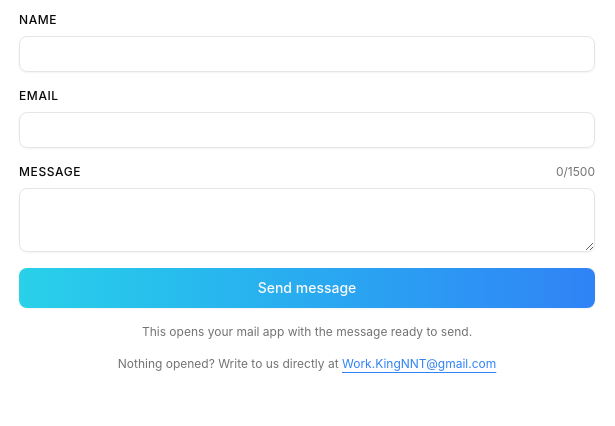
Scenario: ContactForm › confirms the mail app was opened without claiming the message was sent
Type "Ann" into the field labelled "Name" at (307, 54), box [19,36,595,72]
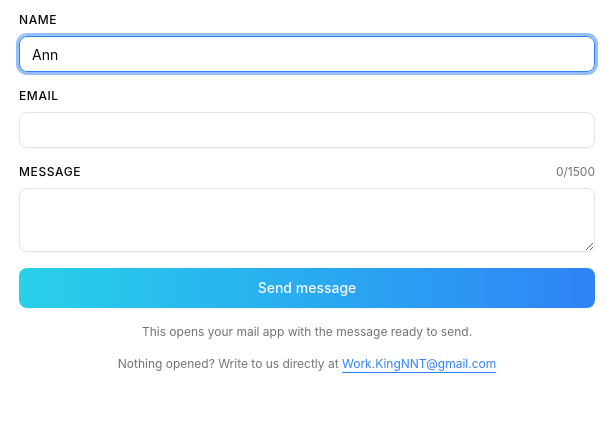
Type "a@b.com" into the field labelled "Email" at (307, 130), box [19,112,595,148]
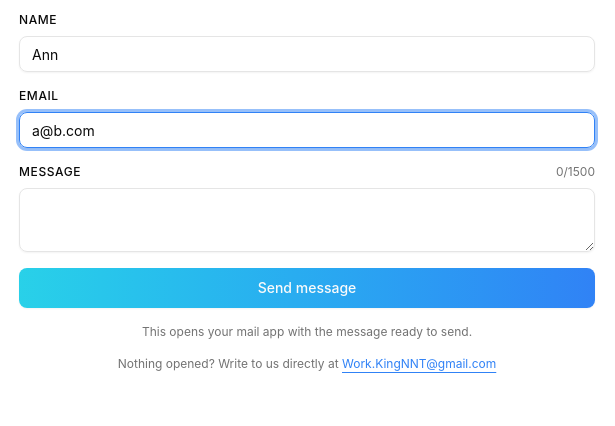
Type "hello there friend" into the text box labelled "Message" at (307, 220), box [19,188,595,252]
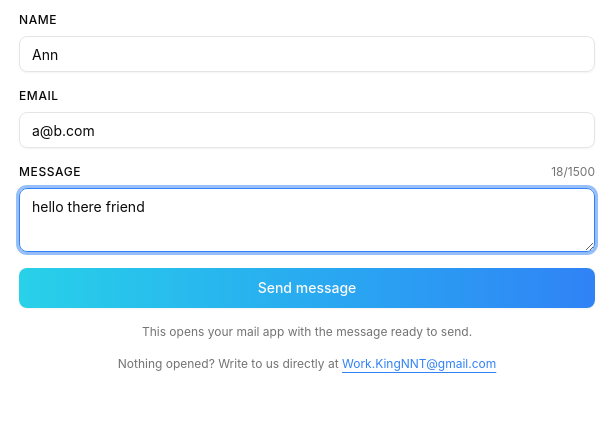
Click the button "Send message" at (307, 288), box [19,268,595,308]
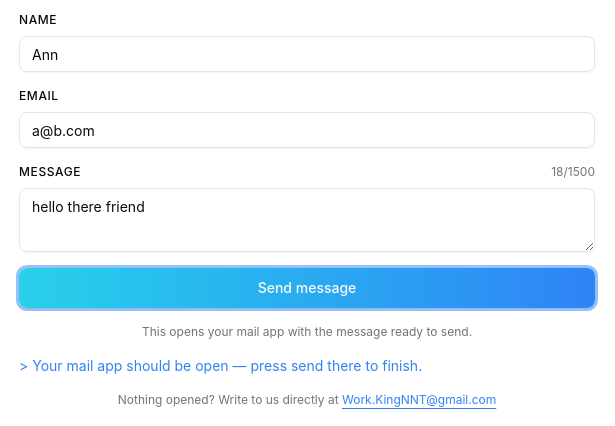
Now the text "> Your mail app should be open — press send there to finish." is shown, box [19,357,422,374]
